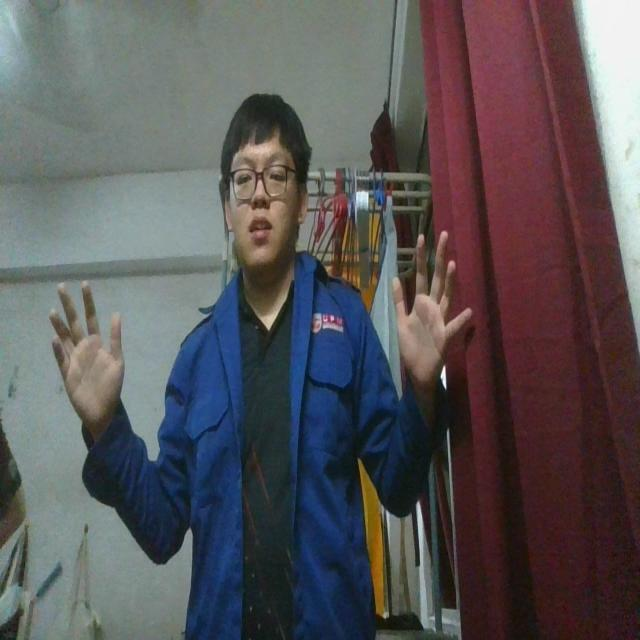person_with_labcoat: (51, 95, 470, 639)
